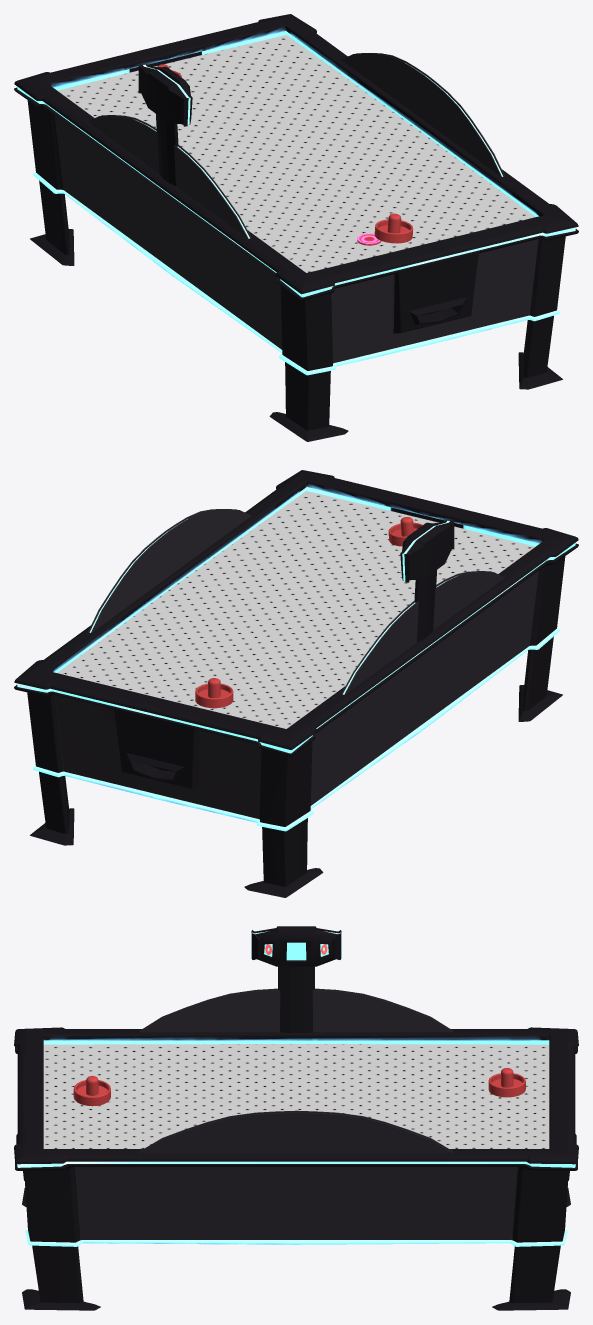
3 views of the same model, one above another, from view 1: azimuth 30°, elevation 25°; view 2: azimuth 150°, elevation 25°; view 3: azimuth 270°, elevation 25° (orthographic). The views are drawn at different scales.
Visible parts, largest first — view 1: polySurface8; view 2: polySurface8; view 3: polySurface8.
Part boxes in pixels (x1,y1,x2,y2): polySurface8: [14, 14, 578, 441]; polySurface8: [14, 470, 578, 897]; polySurface8: [14, 926, 578, 1310].
Size of the model in its own units: 4.97 by 4.5 by 8.87.
Materials: 1 (1 with a texture image).
